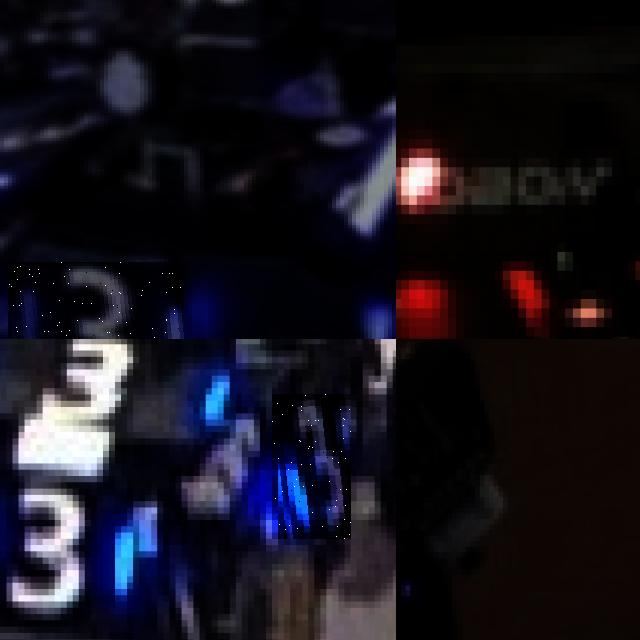B3: (0, 339, 254, 438), (0, 482, 127, 620), (8, 261, 184, 339), (272, 394, 351, 539)
